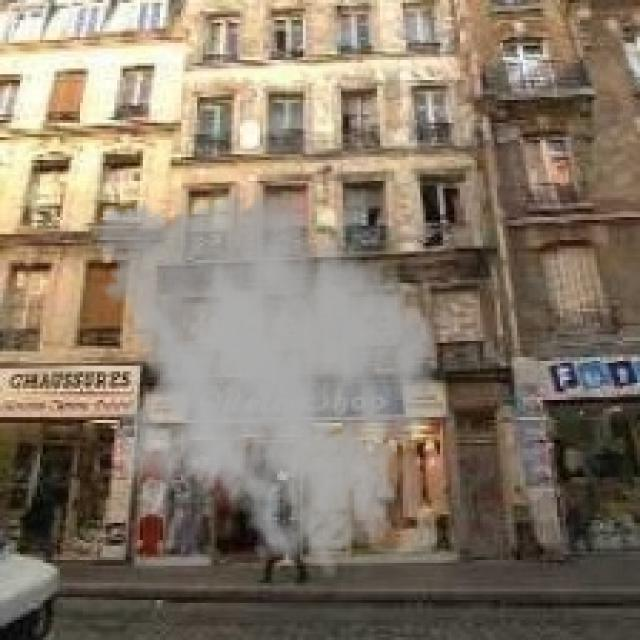Smoke: (80, 180, 440, 580)
